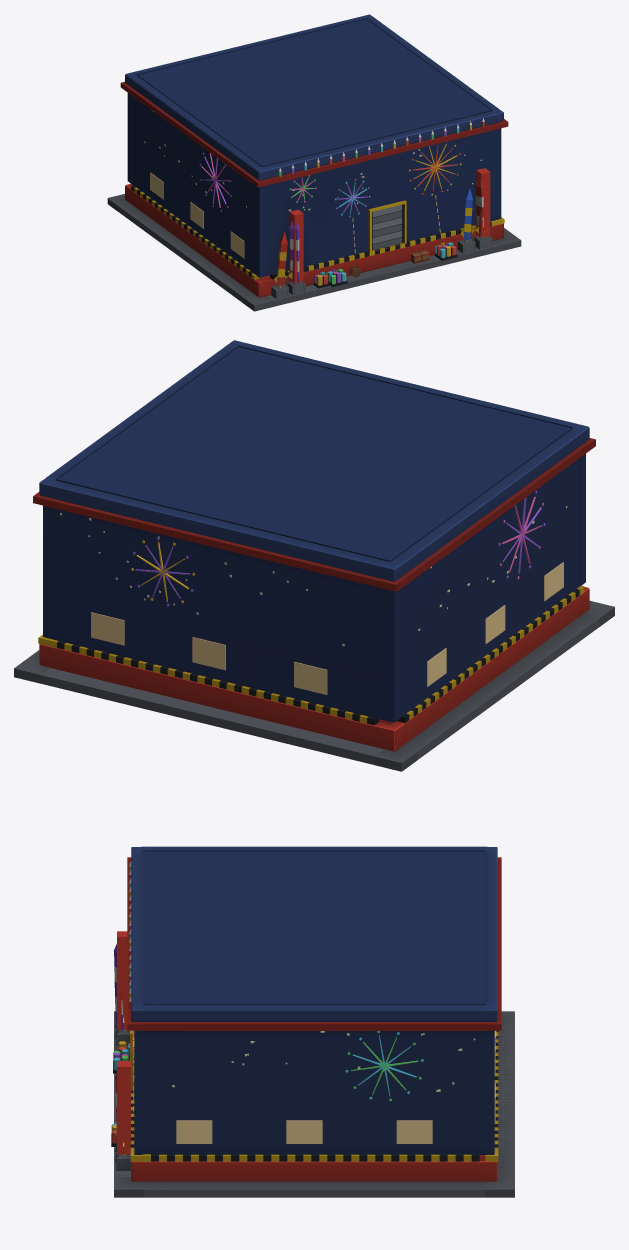
File: PuzzlePhoenixFloor.fbx
The picture shows the model from 3 angles, top to bottom: view 1: azimuth 30°, elevation 25°; view 2: azimuth 150°, elevation 25°; view 3: azimuth 270°, elevation 25°; orthographic projection. The views are drawn at different scales.
Visible parts, largest first — view 1: FW_F_Rings, FW_S_All, FW_F_Smooth, FW_F_Props, FW_F_Glass, FW_F_Quiet; view 2: FW_F_Rings, FW_S_All, FW_F_Smooth, FW_F_Glass, FW_F_Quiet; view 3: FW_F_Rings, FW_S_All, FW_F_Smooth, FW_F_Quiet, FW_F_Glass, FW_F_Props.
Part boxes in pixels (x1,y1,x2,y2): FW_F_Rings: (121, 14, 507, 297); FW_S_All: (108, 19, 518, 311); FW_F_Smooth: (107, 74, 521, 311); FW_F_Props: (271, 174, 492, 298); FW_F_Glass: (144, 111, 484, 287); FW_F_Quiet: (108, 194, 520, 305); FW_F_Rings: (33, 340, 595, 751); FW_S_All: (14, 347, 614, 771); FW_F_Smooth: (14, 427, 614, 771); FW_F_Glass: (60, 490, 567, 694); FW_F_Quiet: (14, 601, 614, 762); FW_F_Rings: (127, 846, 501, 1181); FW_S_All: (114, 851, 514, 1197); FW_F_Smooth: (111, 847, 514, 1197); FW_F_Quiet: (114, 1011, 514, 1189); FW_F_Glass: (122, 1029, 496, 1155); FW_F_Props: (111, 944, 130, 1170).
Size of the model in its own units: 60 by 20 by 60.
